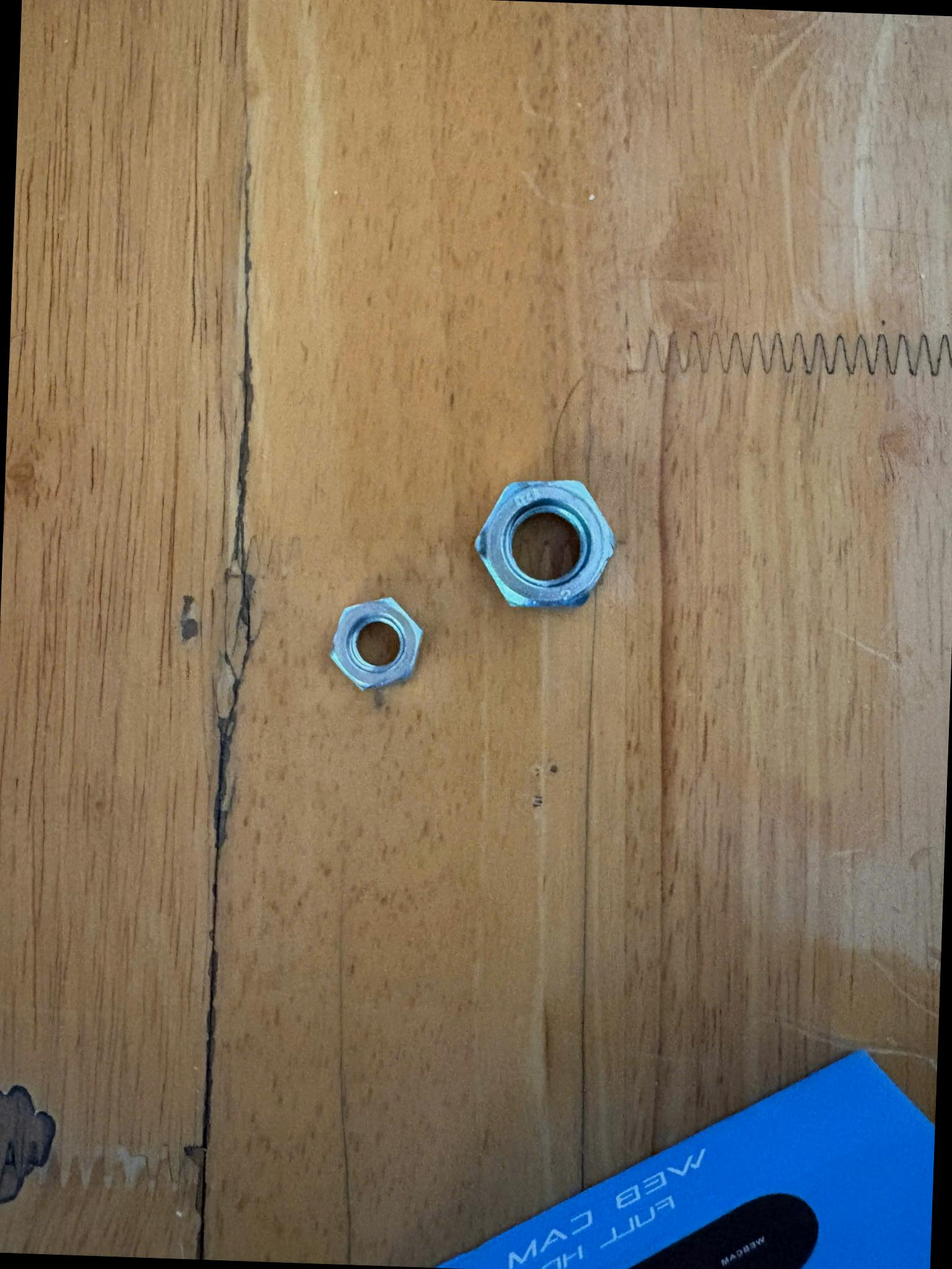nut: (465, 468, 621, 628), (329, 590, 425, 696)
